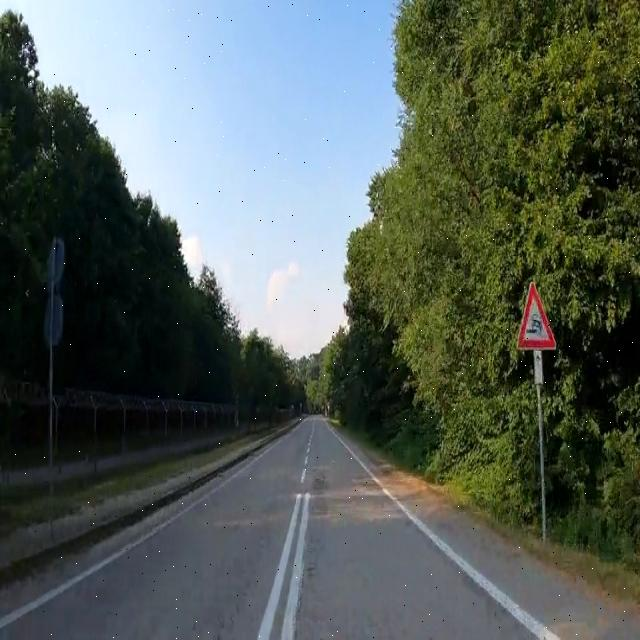lane: (327, 423, 560, 639), (258, 493, 301, 640), (281, 493, 309, 640)
road: (0, 418, 640, 639)
